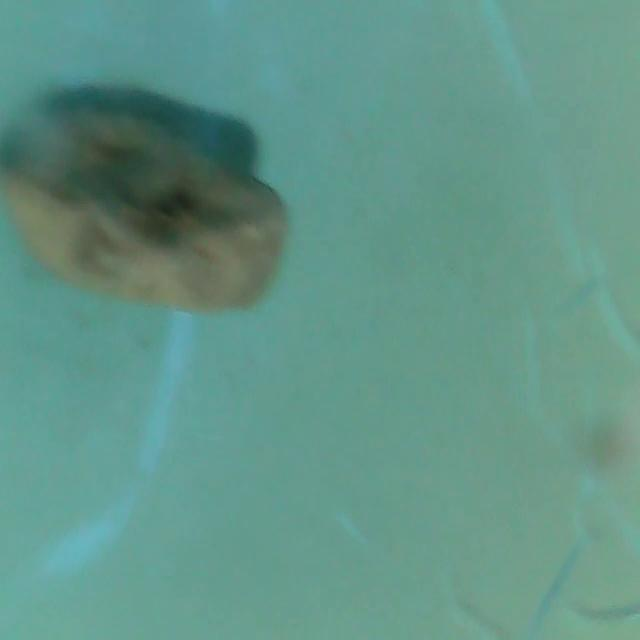rock: (9, 95, 302, 321)
